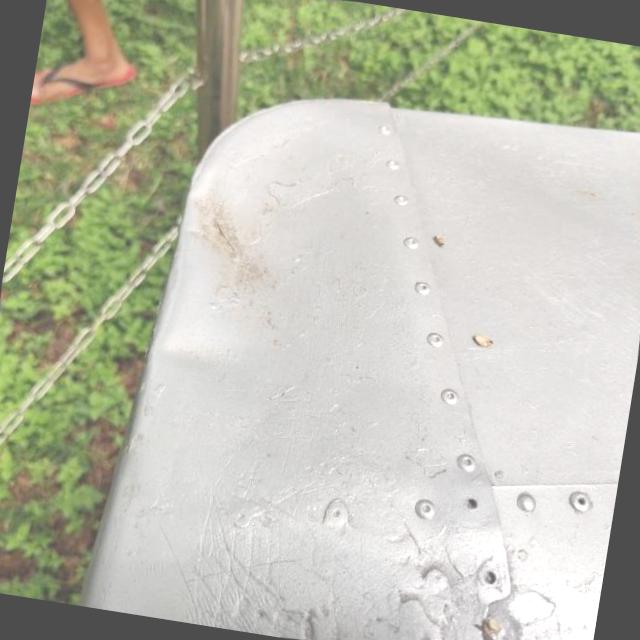dent: (147, 322, 285, 406)
